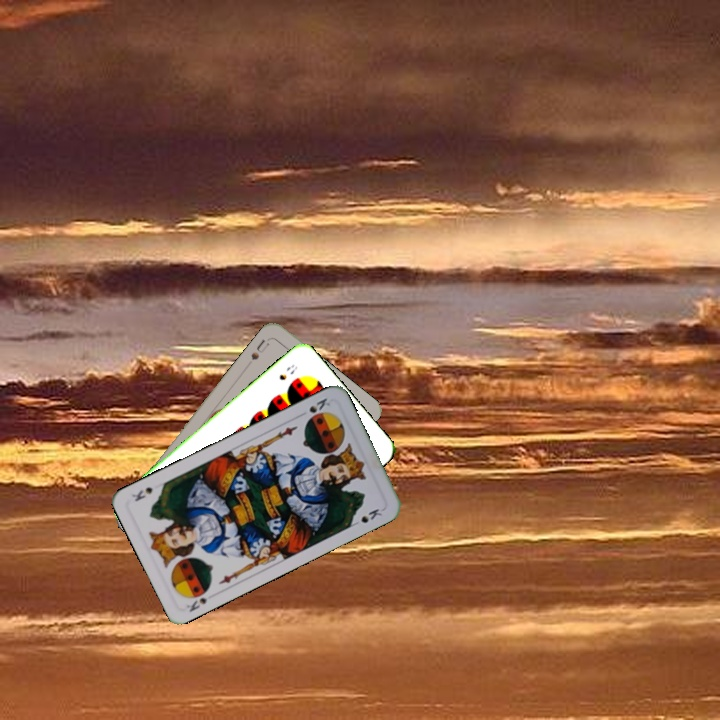S8: (275, 360, 300, 383)
SK: (305, 394, 333, 416), (183, 594, 210, 614)
SU: (247, 334, 273, 363)
